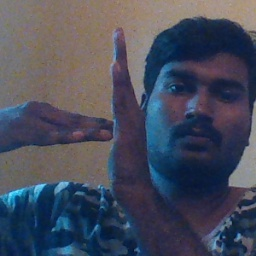Z: (44, 25, 159, 201)
